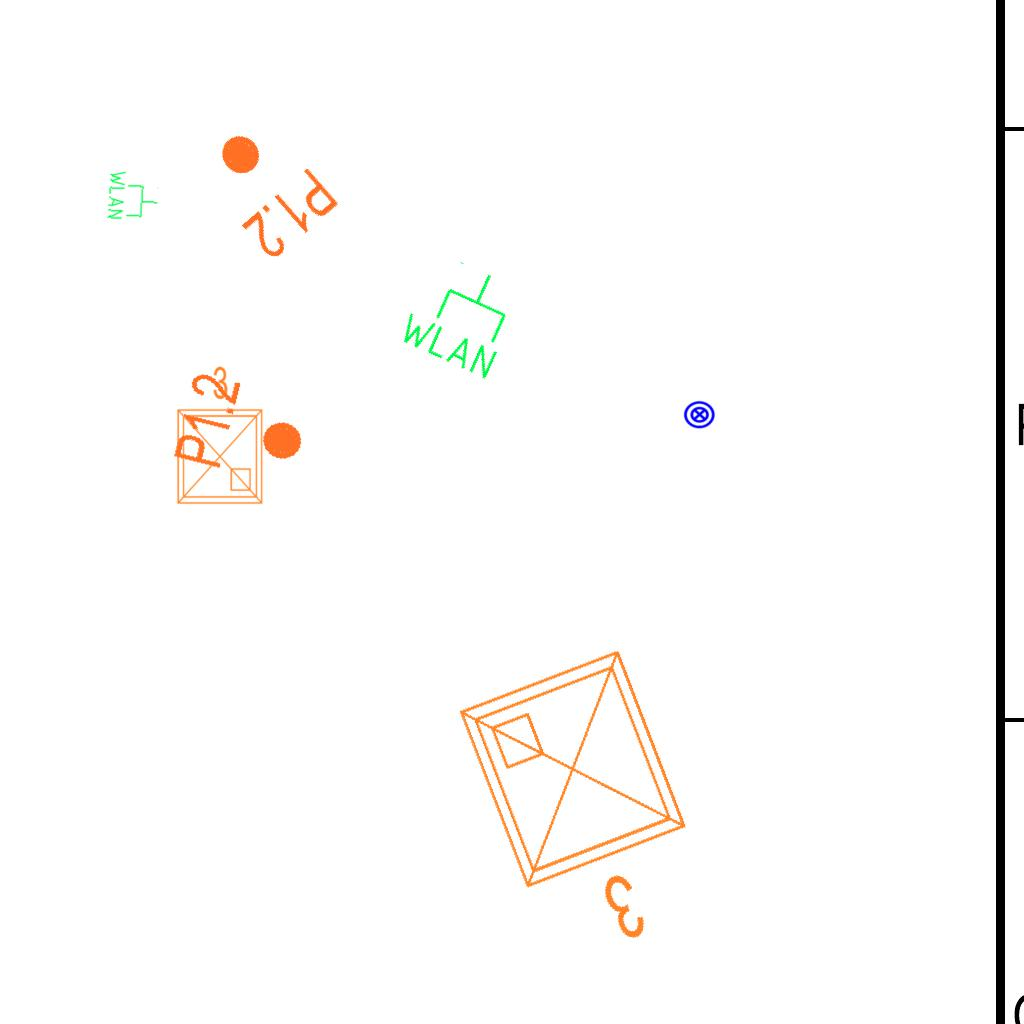Downlight_LED_Einbauleuchten_Flur: (189, 108, 344, 266), (169, 368, 316, 490)
Einbaudownlights_LED_Konferenzraeume: (440, 628, 742, 984), (166, 361, 270, 511)
Taster_beleuchtet: (683, 398, 716, 431)
WLAN: (391, 246, 531, 385), (105, 168, 161, 224)
